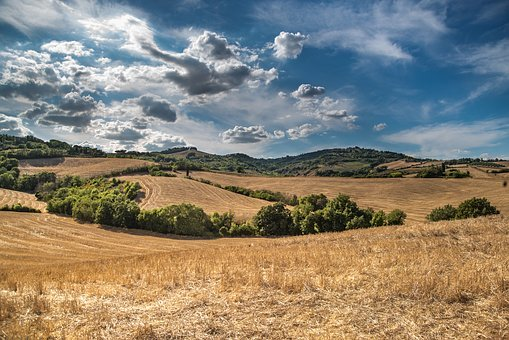field: (1, 150, 506, 335)
sky: (2, 2, 508, 160)
